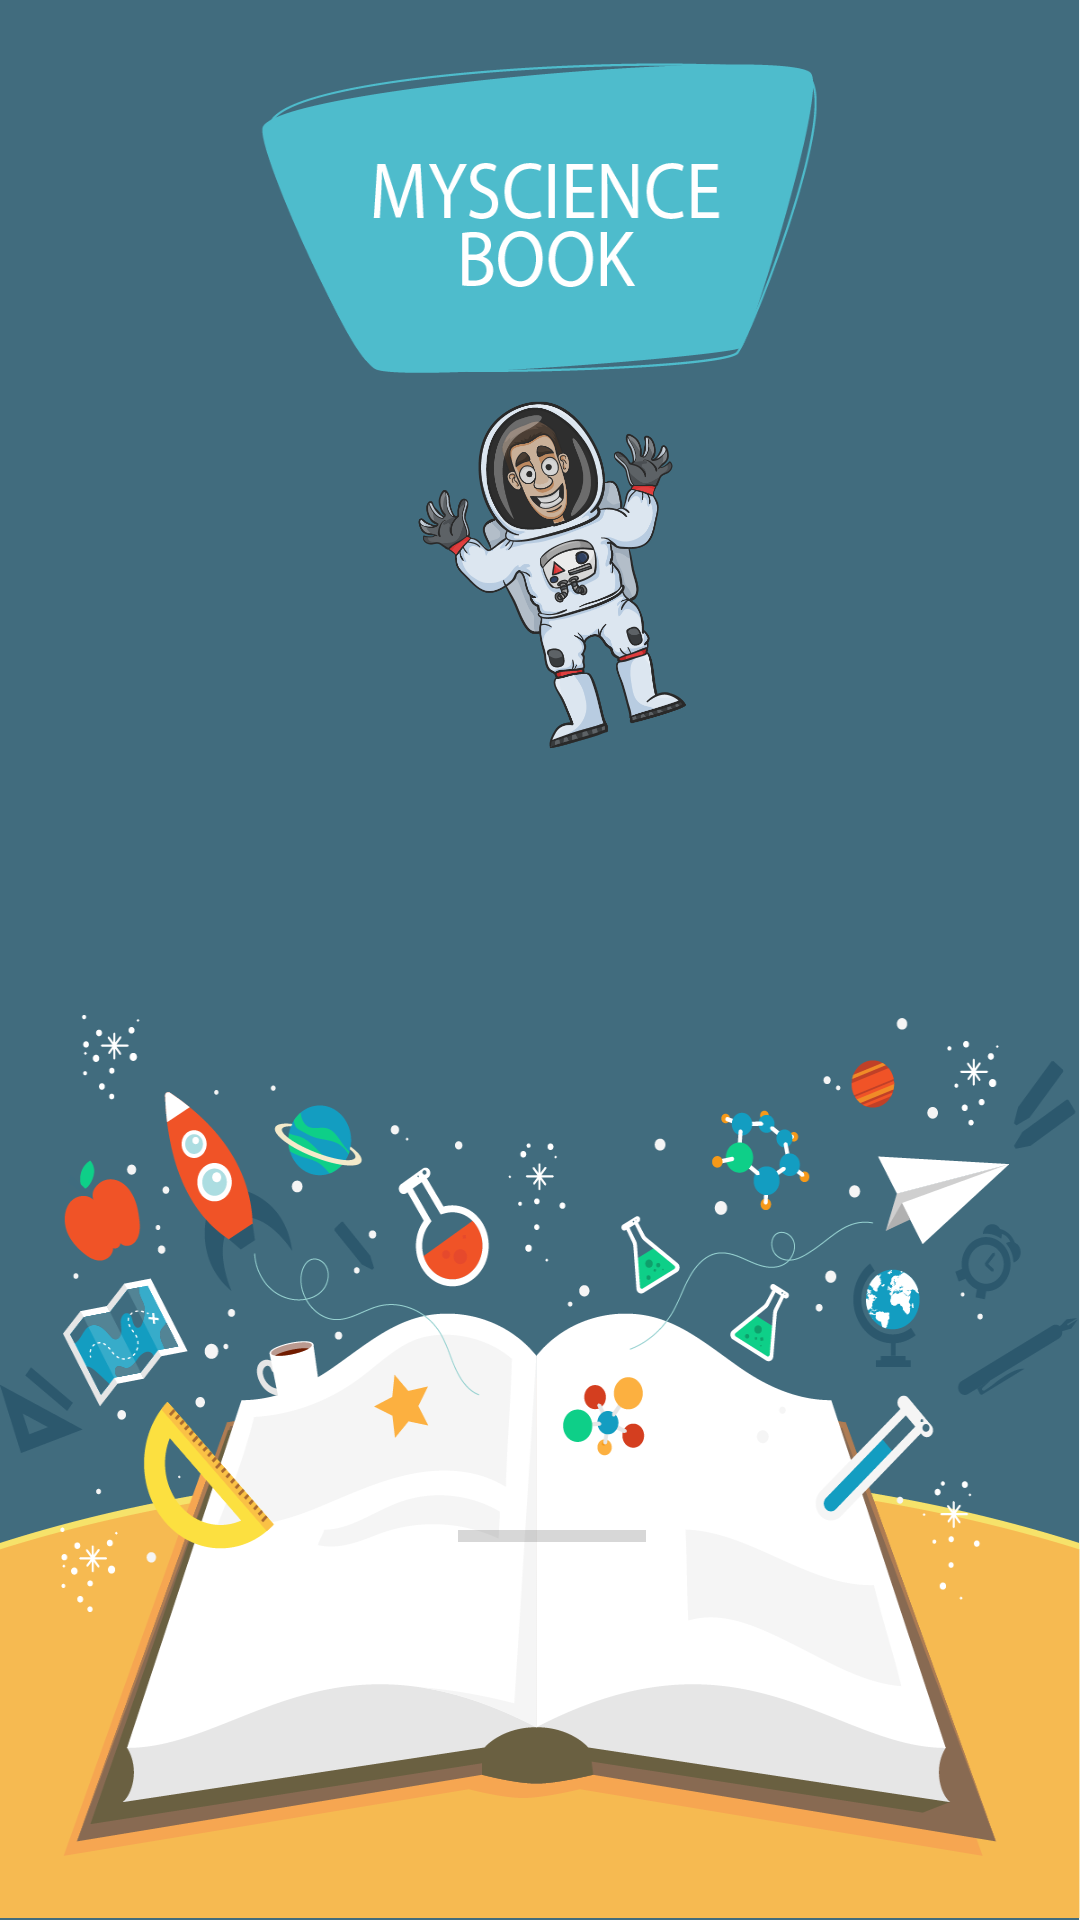

Point at icon controls on the screen. Image size 1080×1920, points as [x,y].
astronaut: [552,575]
